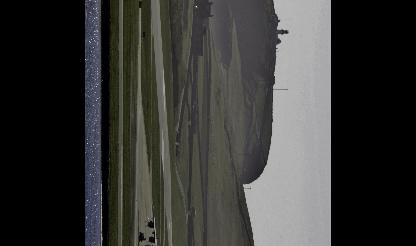A400M: (138, 204, 180, 245)
